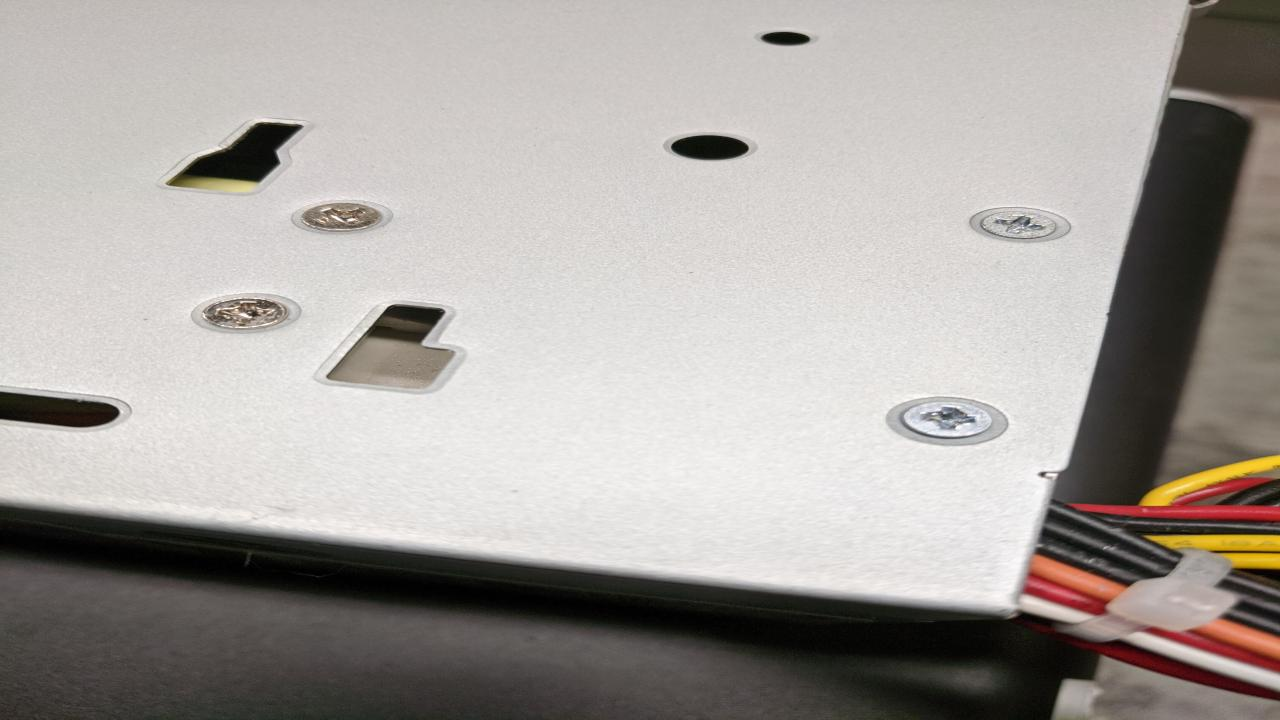CRS: (903, 398, 989, 440), (979, 207, 1065, 247), (201, 294, 287, 329), (298, 198, 382, 232)
